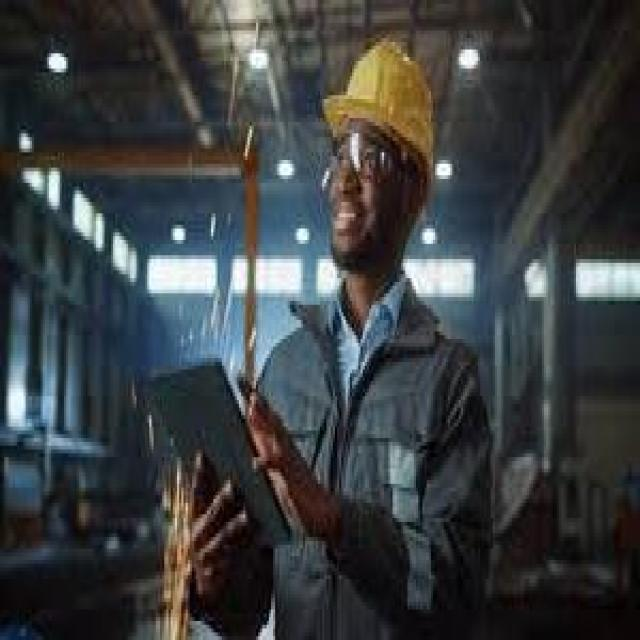Safety-Helmet: (316, 34, 450, 190)
